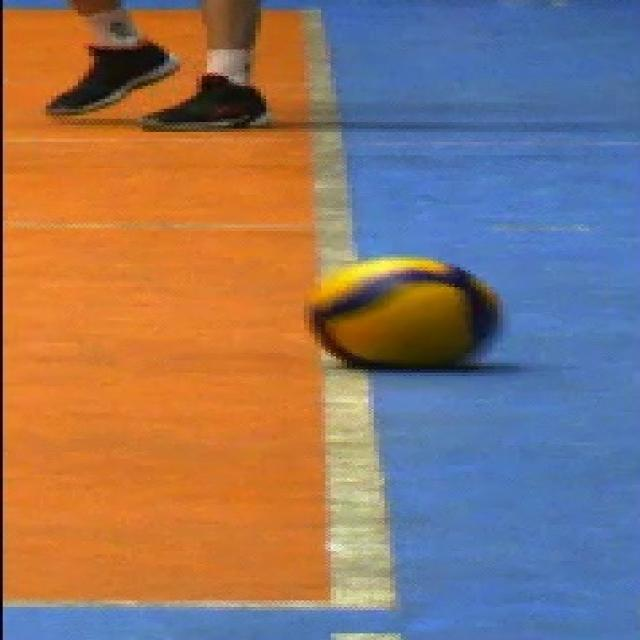Volleyball: (307, 255, 501, 367)
